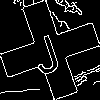J: (25, 25, 64, 76)
